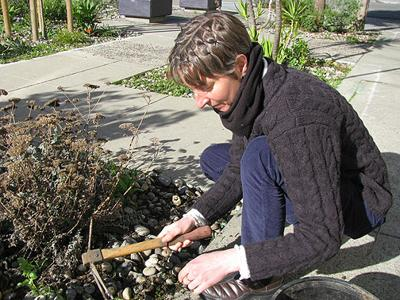person: (156, 10, 393, 298)
